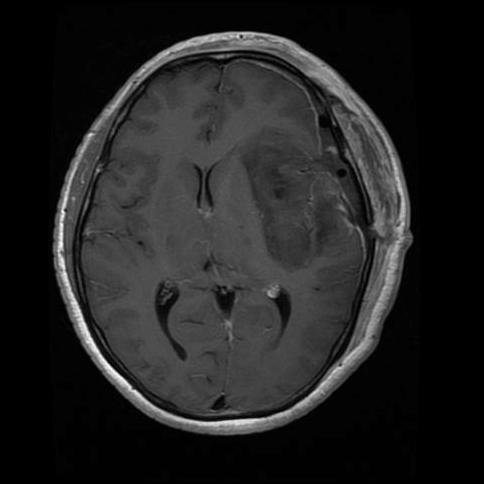Tumour-Glioma: (236, 142, 340, 252)
